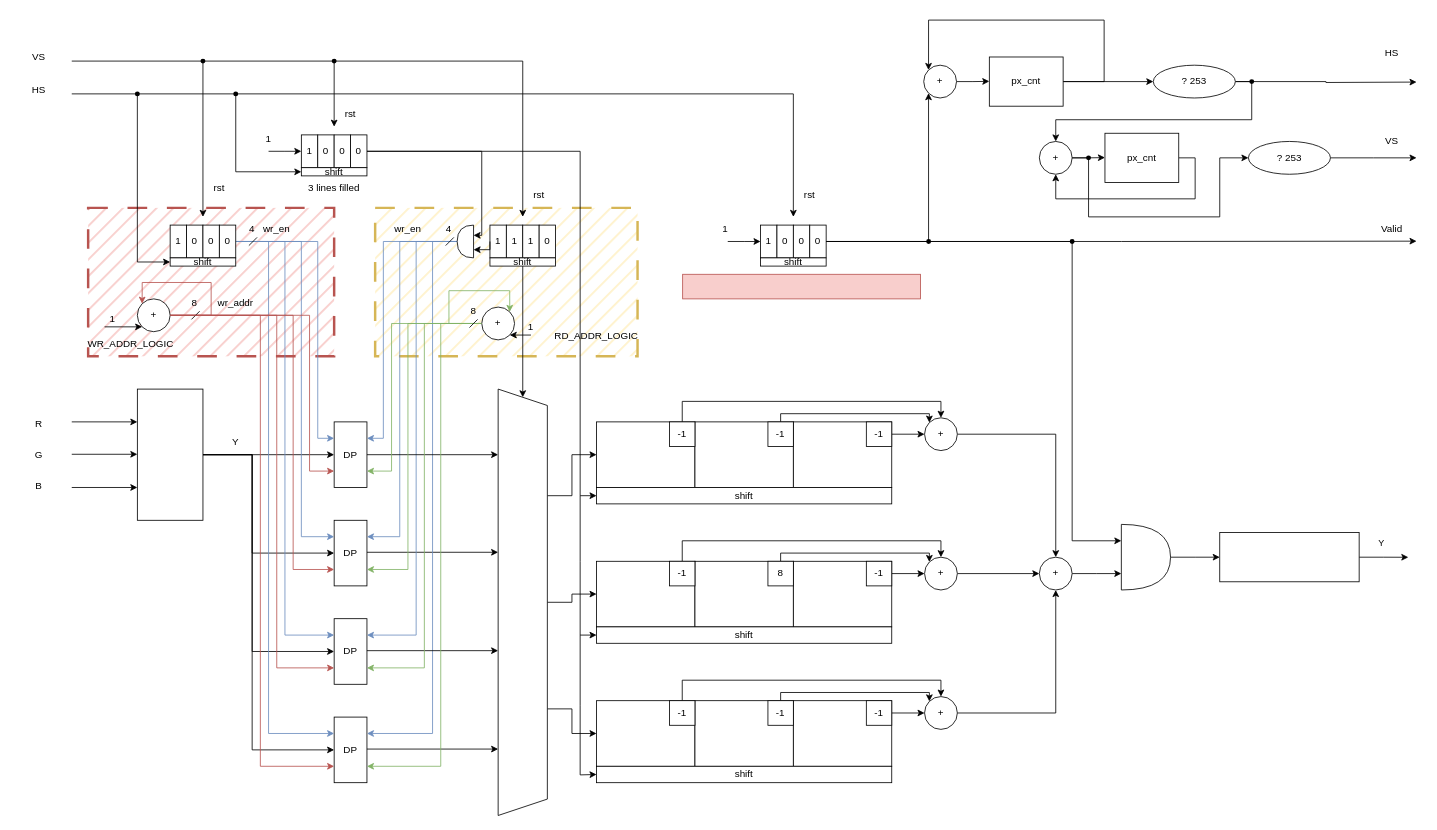
The diagram is 1437 pixels wide and 830 high, and some of its shapes have lost their labels. Here are the shapes that lost their labels. From the top down, the box of each, then its label:
(682, 273, 920, 299): ???? Как он работает при VS =1 на входе
(1219, 532, 1359, 582): Threshold
